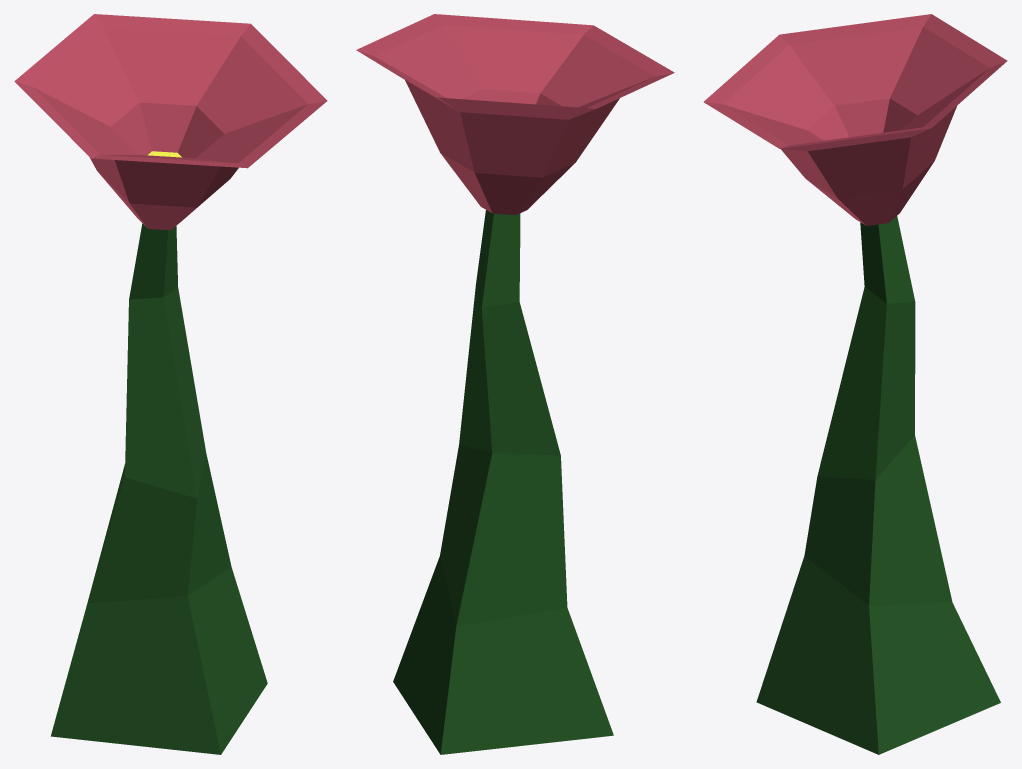
Rendered from fiore5.glb.
3 renders of one model, left to right at view 1: azimuth 30°, elevation 25°; view 2: azimuth 150°, elevation 25°; view 3: azimuth 270°, elevation 25°, orthographic. The views are drawn at different scales.
Parts seen in each view (by area): view 1: Cylinder.003; view 2: Cylinder.003; view 3: Cylinder.003.
Boxes of the visible parts, x1,y1,x2,y2 form: Cylinder.003: [14, 14, 327, 754]; Cylinder.003: [356, 14, 674, 754]; Cylinder.003: [703, 14, 1007, 754].
Bounding box in the file's own units: 0.1625 × 0.4256 × 0.1829.
